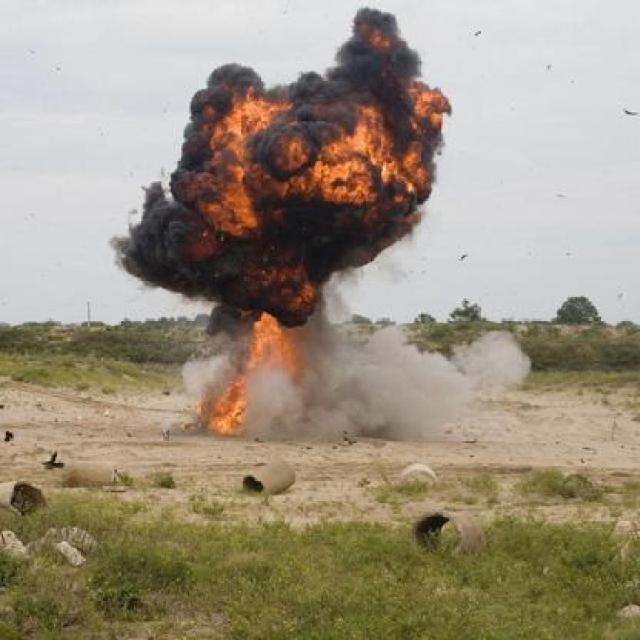Fire: (191, 314, 301, 444)
Smoke: (94, 4, 453, 314)
